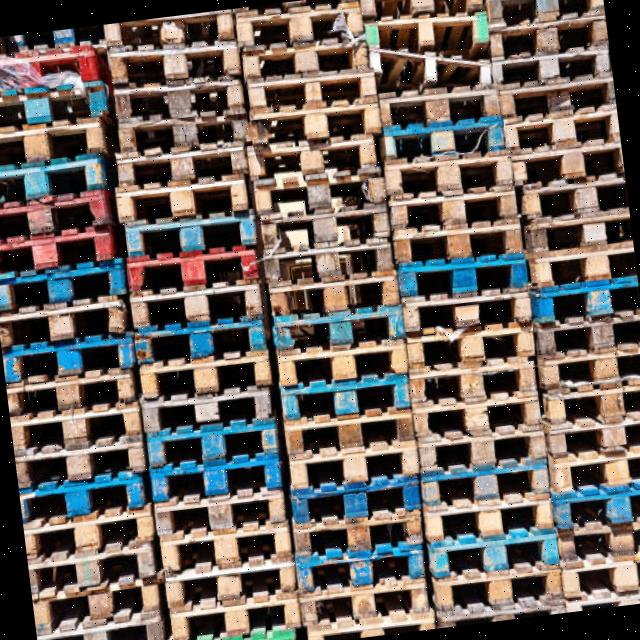Wooden-Pallets: (140, 347, 275, 403), (118, 172, 250, 228), (14, 440, 151, 492), (388, 186, 524, 236), (110, 76, 246, 125), (409, 320, 536, 372), (167, 590, 297, 640), (6, 372, 140, 418), (502, 102, 620, 154), (288, 444, 420, 490), (283, 412, 417, 456), (248, 71, 382, 115), (298, 579, 431, 623), (418, 394, 545, 439), (421, 432, 548, 477), (557, 545, 640, 602), (382, 86, 500, 125)
